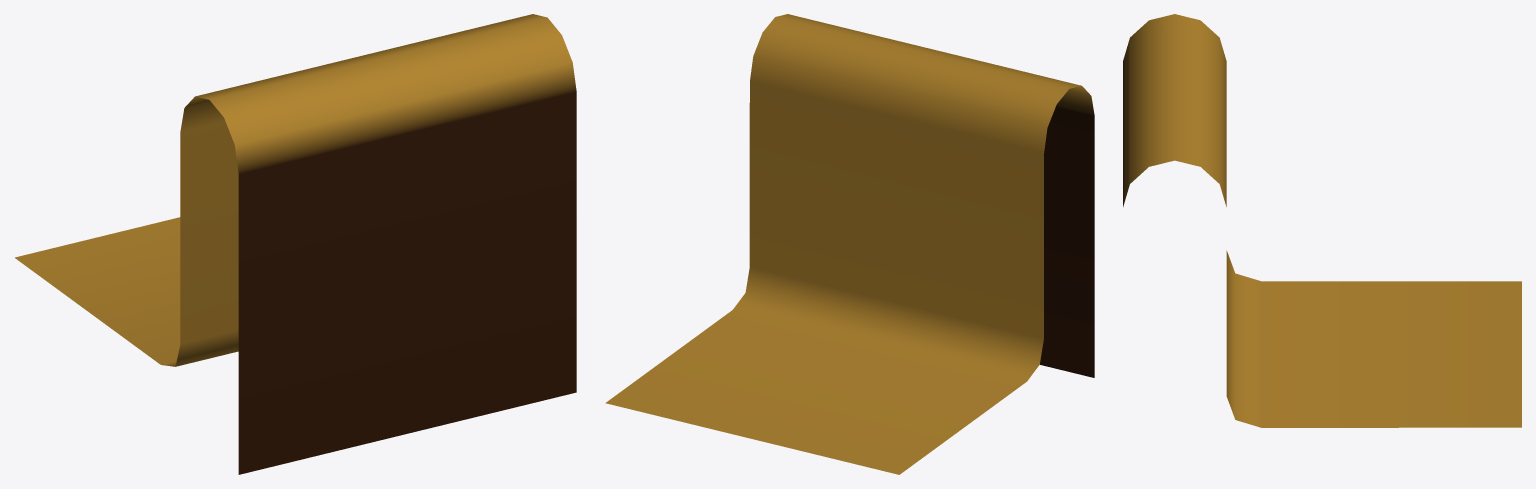
File: Base_PoolBoard.fbx
3 renders of one model, left to right at view 1: azimuth 30°, elevation 25°; view 2: azimuth 150°, elevation 25°; view 3: azimuth 270°, elevation 25°, orthographic. The views are drawn at different scales.
Parts seen in each view (by area): view 1: Base_PoolBoard; view 2: Base_PoolBoard; view 3: Base_PoolBoard.
Boxes of the visible parts, box(x1,y1,x2,y2) form: Base_PoolBoard: box(15, 14, 576, 474); Base_PoolBoard: box(605, 14, 1094, 474); Base_PoolBoard: box(1123, 14, 1521, 427).
Bounding box in the file's own units: 2000 × 2000 × 2300.
